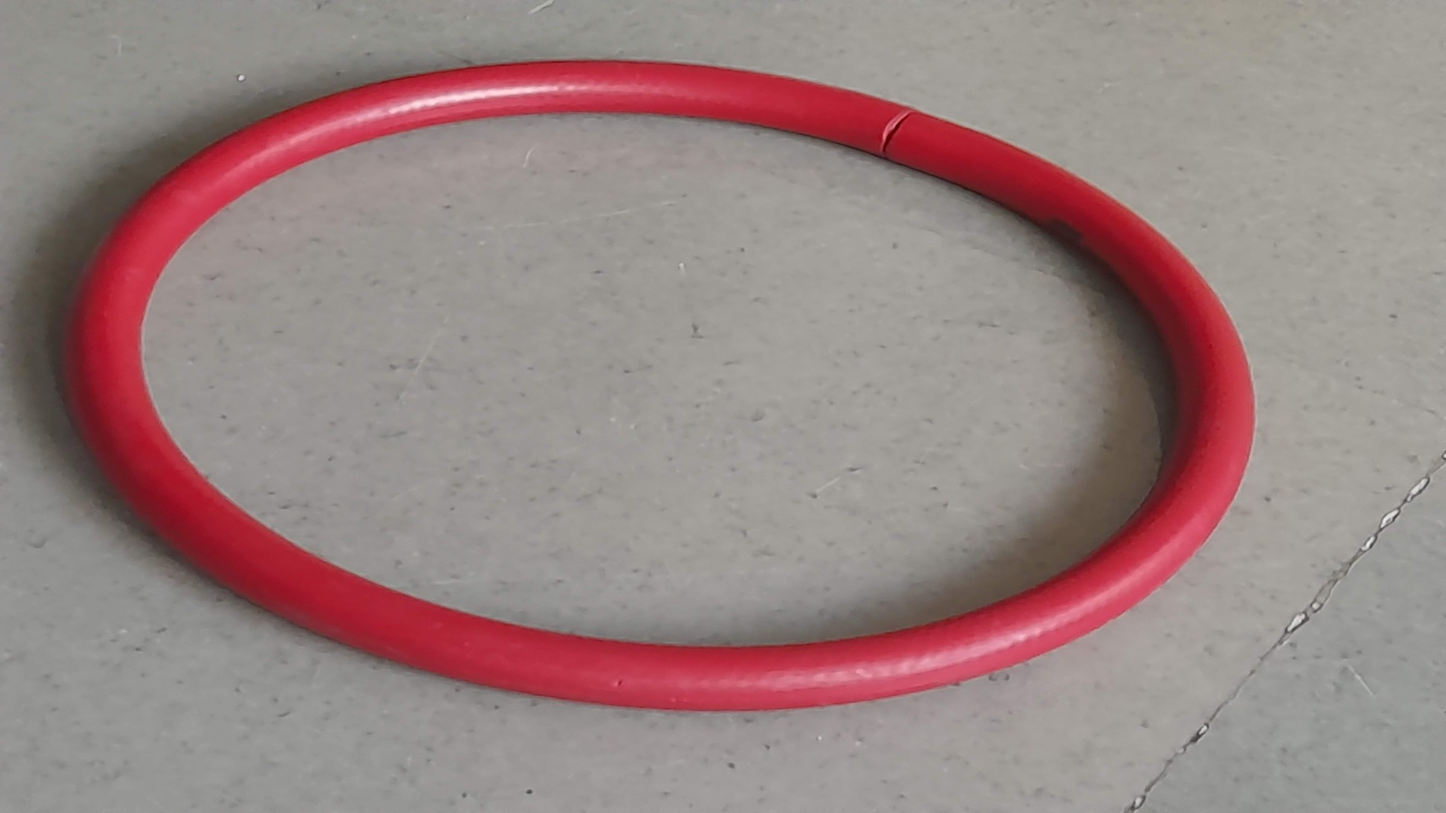Red ring: (74, 61, 1258, 715)
